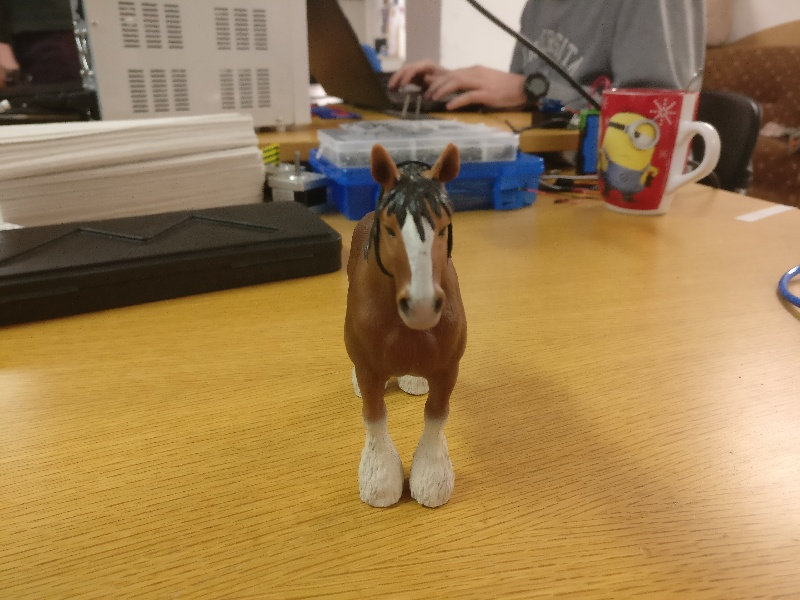toy: (325, 133, 489, 513)
